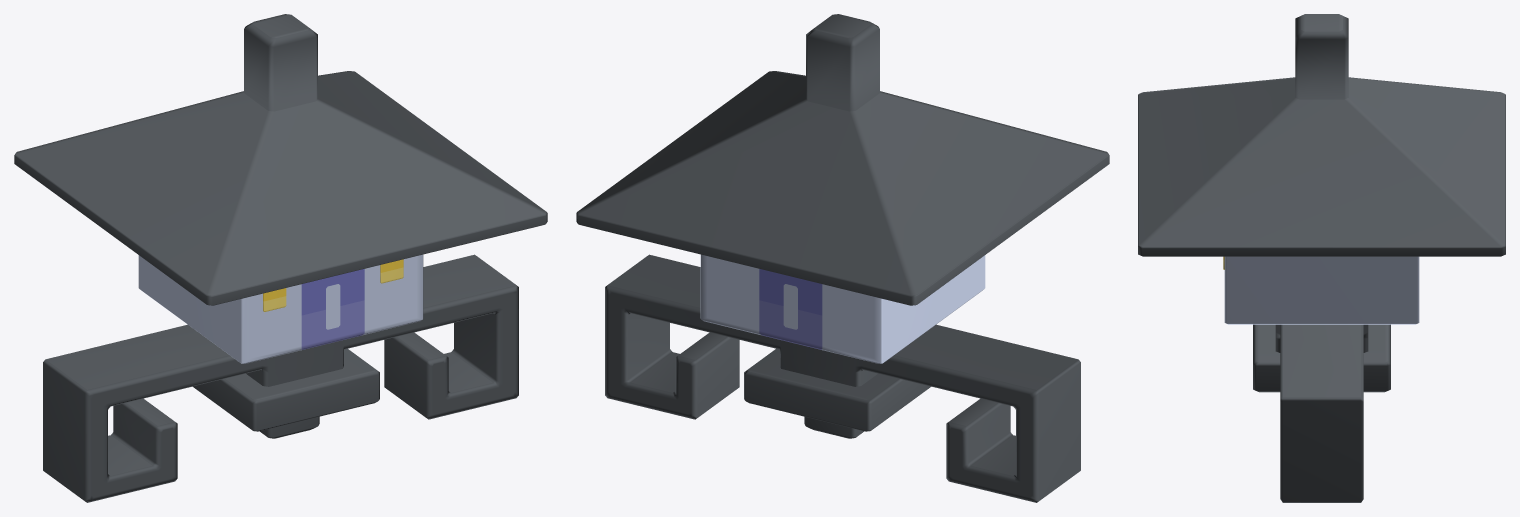
The picture shows the model from 3 angles, left to right: view 1: azimuth 30°, elevation 25°; view 2: azimuth 150°, elevation 25°; view 3: azimuth 270°, elevation 25°; orthographic projection. The views are drawn at different scales.
Visible parts, largest first — view 1: 0608_lampent; view 2: 0608_lampent; view 3: 0608_lampent.
Boxes of the visible parts, <box> form: 0608_lampent: <box>14,14,547,502</box>; 0608_lampent: <box>576,14,1109,502</box>; 0608_lampent: <box>1138,14,1505,502</box>.
Bounding box in the file's own units: 2.5 × 2.25 × 1.96.
1 material, 1 textured.
